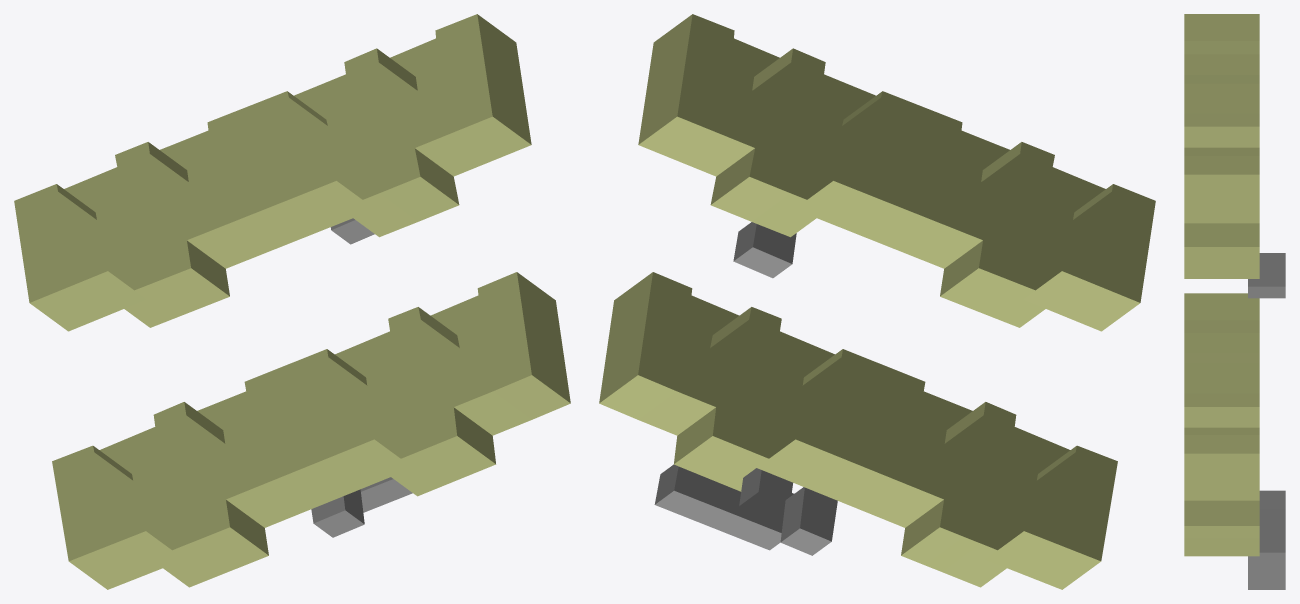
3 renders of one model, left to right at view 1: azimuth 30°, elevation 25°; view 2: azimuth 150°, elevation 25°; view 3: azimuth 270°, elevation 25°, orthographic. The views are drawn at different scales.
Visible parts, largest first — view 1: 0_1_2_0_3_0_1_2_2; view 2: 0_1_2_0_3_0_1_2_2; view 3: 0_1_2_0_3_0_1_2_2.
Boxes of the visible parts, bbox=[...] form: 0_1_2_0_3_0_1_2_2: bbox=[14, 14, 570, 589]; 0_1_2_0_3_0_1_2_2: bbox=[599, 14, 1155, 589]; 0_1_2_0_3_0_1_2_2: bbox=[1184, 14, 1285, 589].
Bounding box in the file's own units: 46.03 × 40.11 × 8.06.
